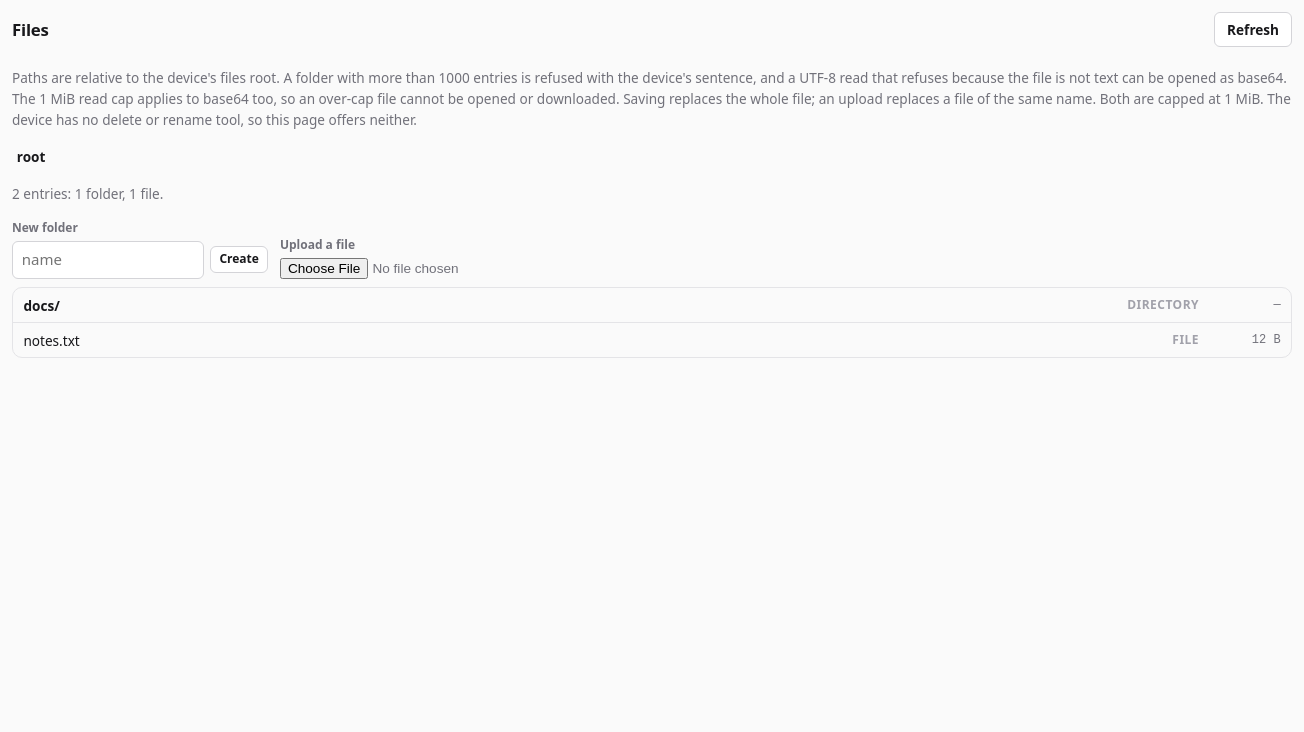
Test: FilesPage opening a file › reads a text file with files.read, shows its text, and Close returns to the list
Click the button "notes.txt". click: (52, 340)
box: [23, 328, 1163, 352]
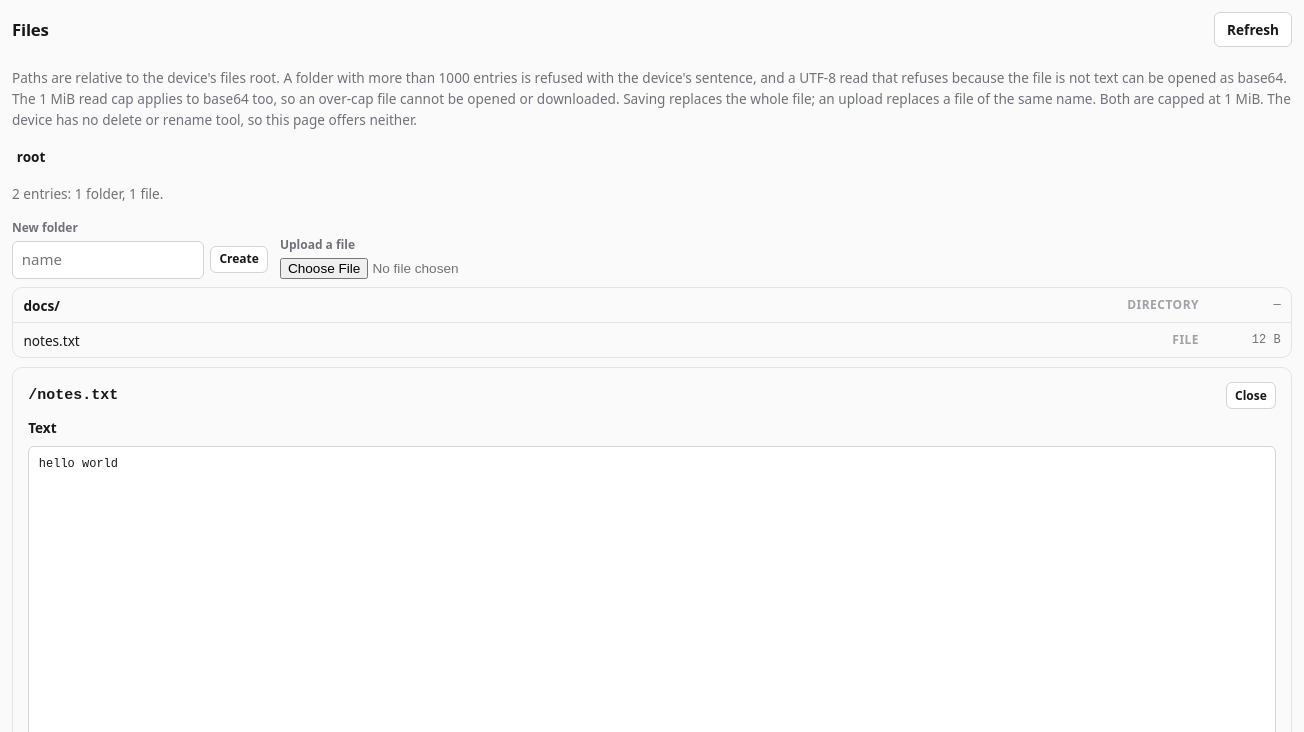
Result: the text "/notes.txt" is shown at [28, 387, 118, 404]
Click the button "Close". click: (1251, 396)
box: [1226, 382, 1276, 409]
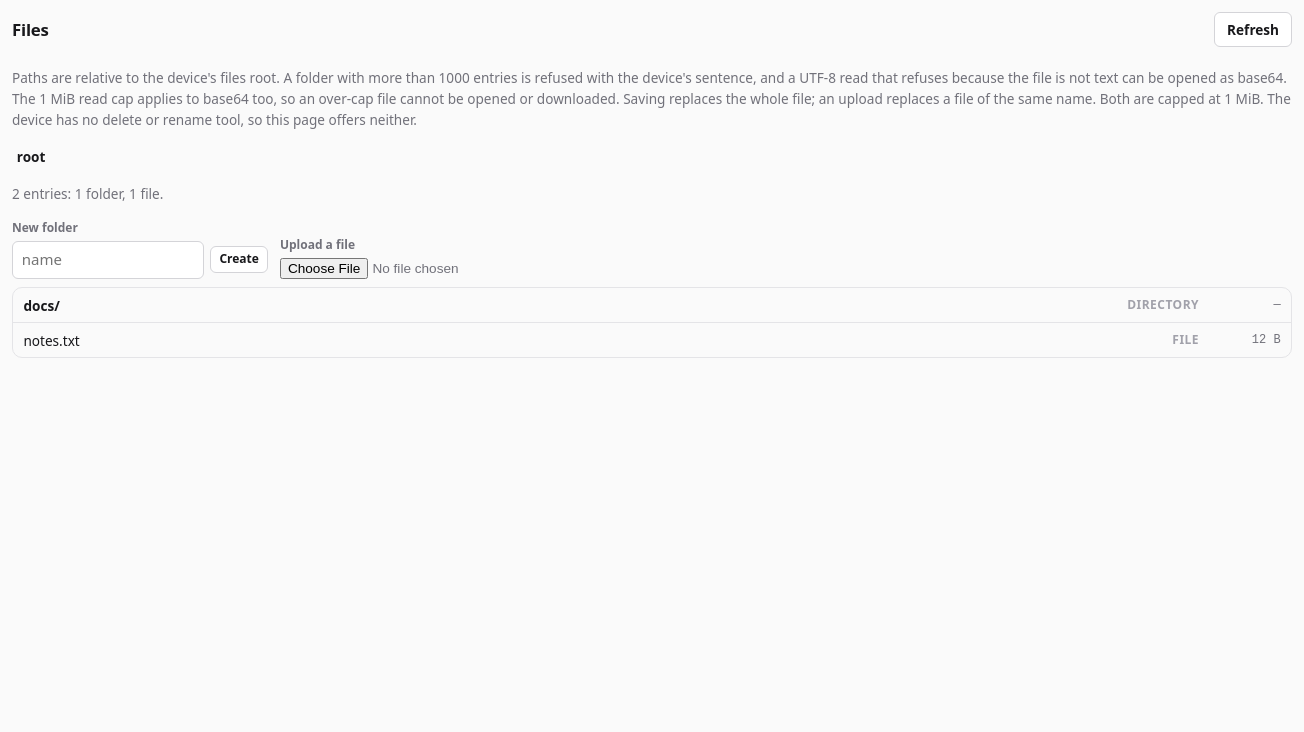
Expected: the field labelled "Text" is not shown
Result: the text "/notes.txt" is gone
